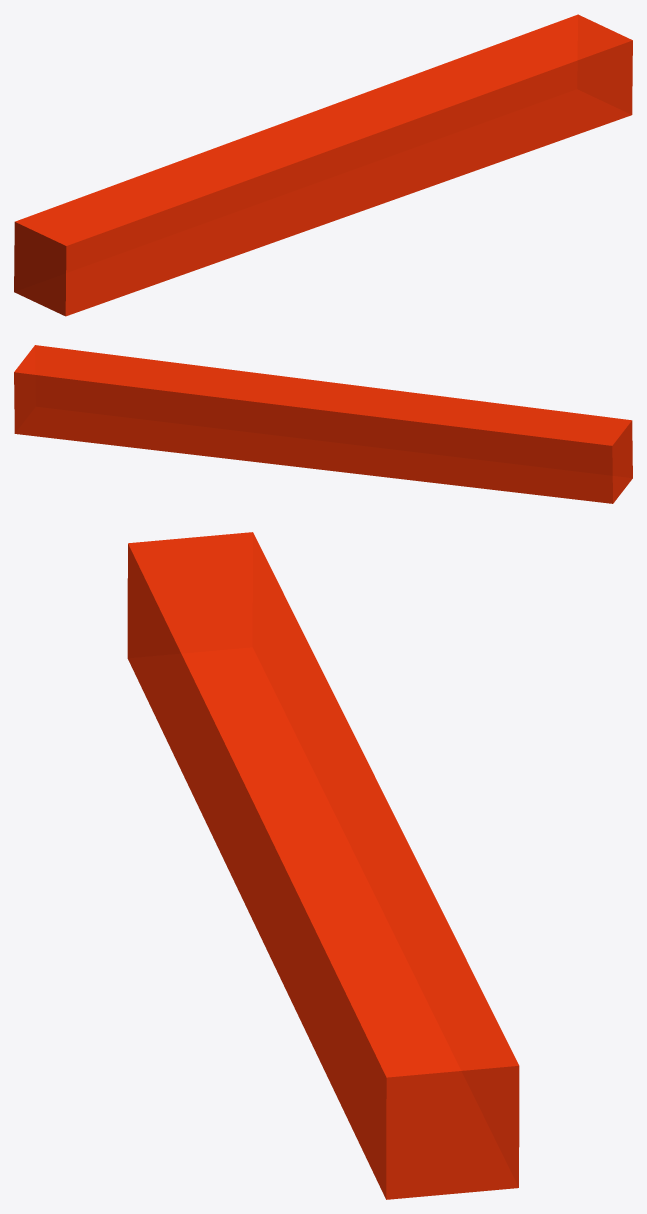
The model's file is Event_421364160_EErechit_55.fbx.
3 views of the same model, one above another, from view 1: azimuth 30°, elevation 25°; view 2: azimuth 150°, elevation 25°; view 3: azimuth 270°, elevation 25° (orthographic). The views are drawn at different scales.
Visible parts, largest first — view 1: Model; view 2: Model; view 3: Model.
Part boxes in pixels (x1=…): Model: x1=14, y1=14, x2=632, y2=316; Model: x1=14, y1=345, x2=632, y2=503; Model: x1=127, y1=532, x2=519, y2=1199.
Size of the model in its own units: 0.7139 by 0.0863 by 0.2224.
